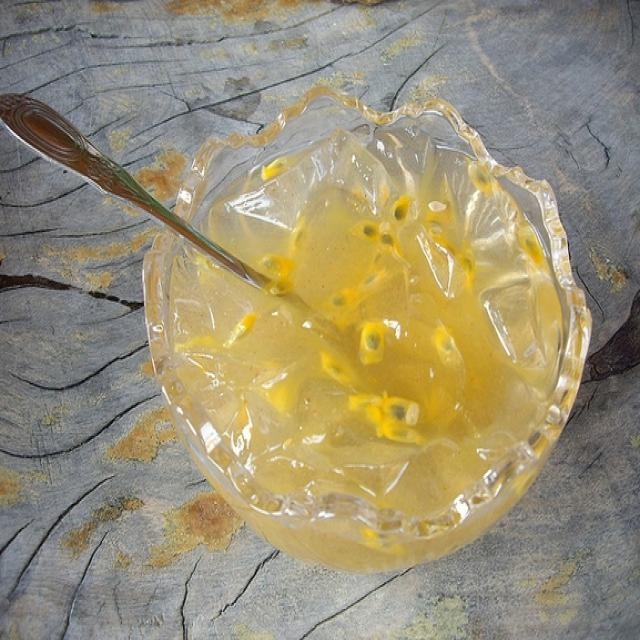蛋糕甜品: (140, 104, 606, 586)
